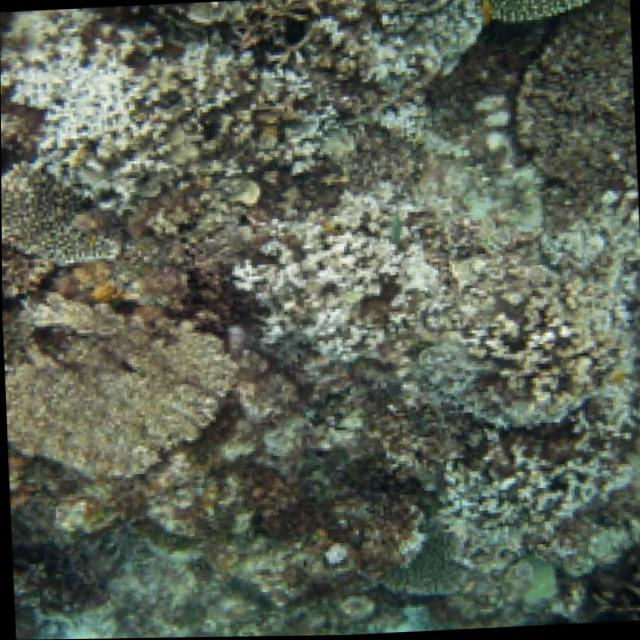Dead Coral: (348, 191, 640, 577), (1, 248, 256, 535), (155, 0, 449, 184), (504, 12, 636, 174)
